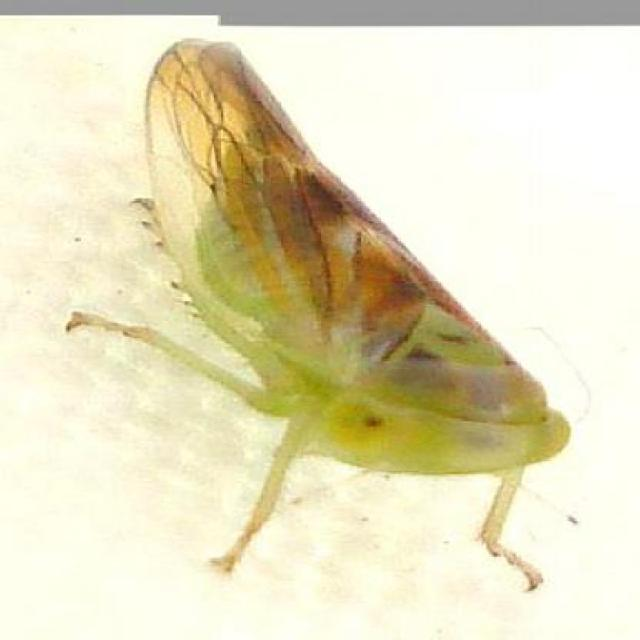green-leafhopper: (135, 38, 574, 508)
